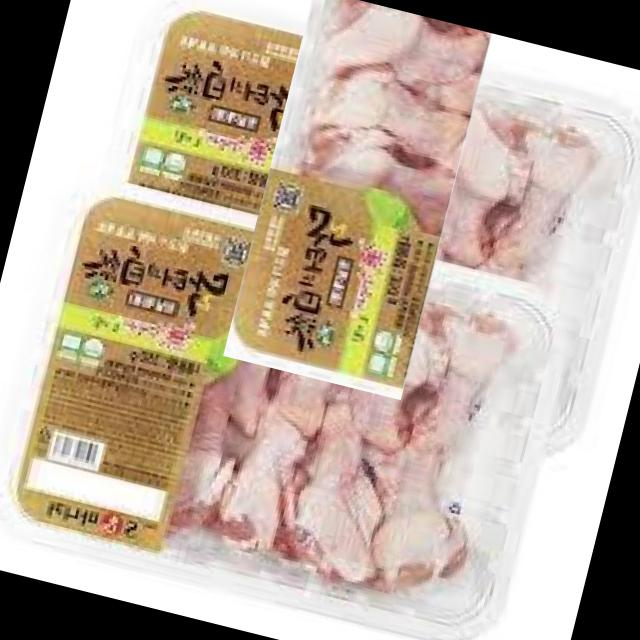chicken: (0, 179, 582, 640), (169, 0, 562, 347)
